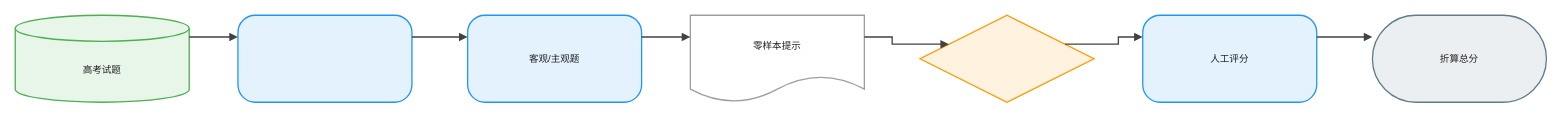
This 1563x118 diagram has some shape labels left out. Each missing label, with the centre of its shape:
客观匹配: [1006,58]
解析标注: [324,58]
